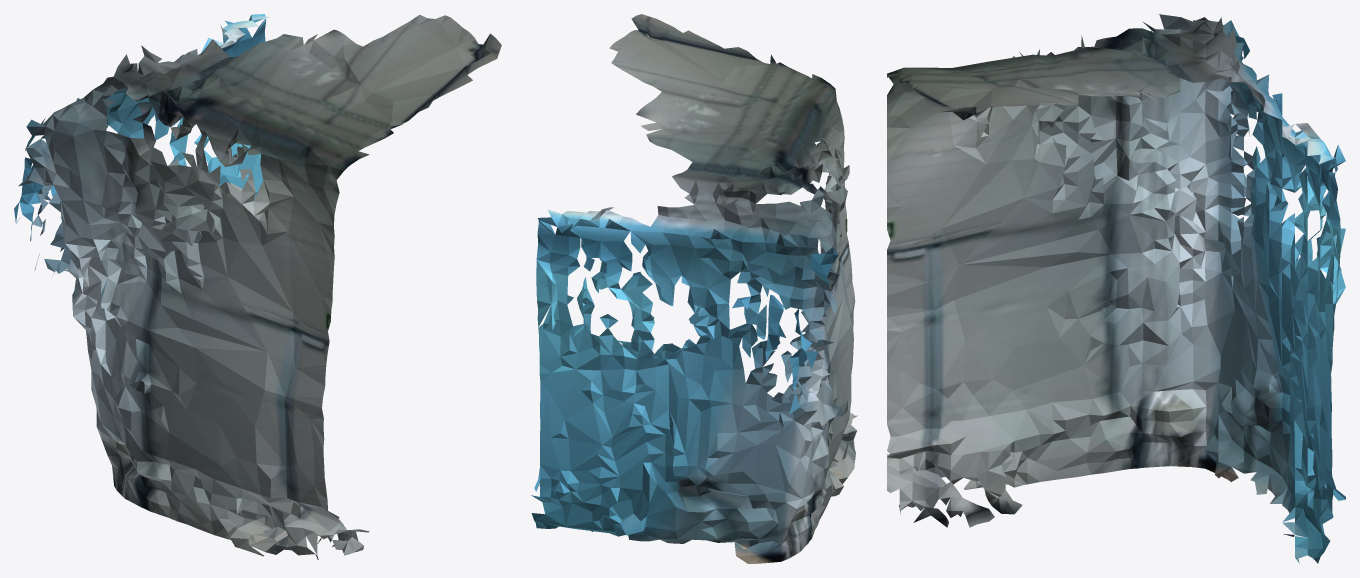
3 views of the same model, side by side, from view 1: azimuth 30°, elevation 25°; view 2: azimuth 150°, elevation 25°; view 3: azimuth 270°, elevation 25° (orthographic). The views are drawn at different scales.
Visible parts, largest first — view 1: mesh; view 2: mesh; view 3: mesh.
Boxes of the visible parts, x1,y1,x2,y2 form: mesh: (14,14,501,559); mesh: (531,14,857,563); mesh: (887,14,1345,563).
Bounding box in the file's own units: 3.48 × 4.39 × 3.6.
1 material, 1 textured.
